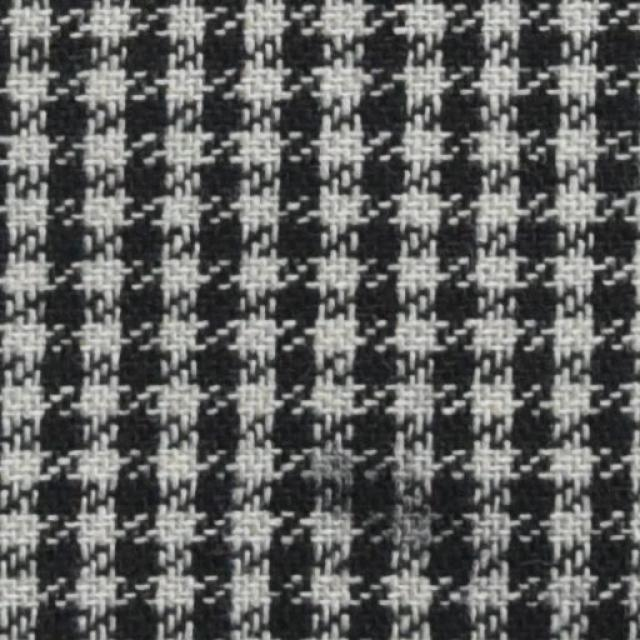Stain: (245, 442, 433, 559)
